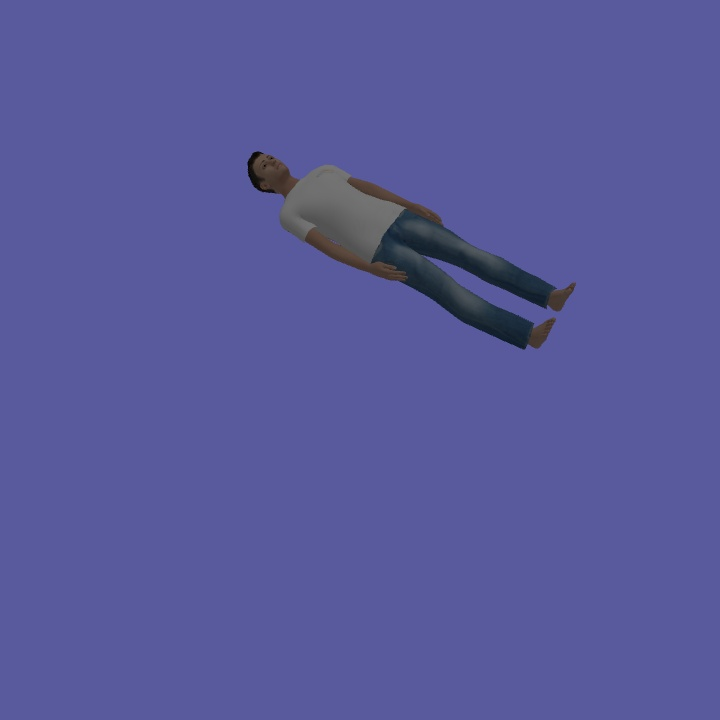victim: (242, 147, 580, 350)
